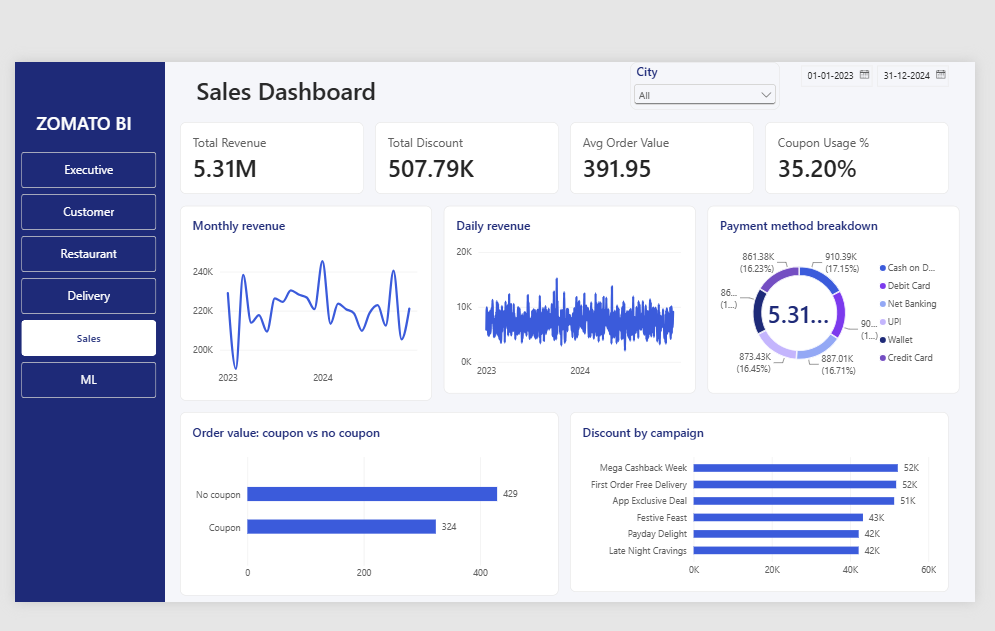

This screenshot's page, from the dashboard's own definition file:
{"tool":"powerbi","page":{"name":"Sales","canvas":[1280,720],"ordinal":4},"visuals":[{"type":"slicer","fields":{"Values":["DateTable.Date"]},"box":[1040,0,220,63.3],"z":0},{"type":"slicer","fields":{"Values":["cities.City"]},"box":[820,0,200,63.8],"z":1000},{"type":"clusteredBarChart","fields":{"Category":["cities.City"],"Y":["orders.Total Orders"]},"box":[45.7,871.4,575.7,208.6],"z":2000},{"type":"shape","box":[0,0,200,720],"z":3000},{"type":"textbox","box":[8.3,45,183.3,73.3],"z":4000},{"type":"textbox","box":[241.7,16.7,328.3,46.7],"z":5000},{"type":"cardVisual","fields":{"Data":["orders.Total Discount"]},"box":[480,80,245,96],"z":6000},{"type":"cardVisual","fields":{"Data":["orders.Total Revenue"]},"box":[220,80,245,96],"z":7000},{"type":"cardVisual","fields":{"Data":["orders.Coupon Usage %"]},"box":[1000,80,245,96],"z":8000},{"type":"pageNavigator","box":[8,120,180,330],"z":9000},{"type":"lineChart","title":"Monthly revenue","fields":{"Category":["DateTable.MonthStart"],"Y":["orders.Total Revenue"]},"box":[220,192,336,260],"z":10000},{"type":"donutChart","title":"Payment method breakdown","fields":{"Category":["orders.PaymentMethod"],"Y":["orders.Total Revenue"]},"box":[924,192,336,250],"z":11000},{"type":"cardVisual","fields":{"Data":["orders.Avg Order Value"]},"box":[740,80,245,96],"z":12000},{"type":"clusteredBarChart","title":"Order value: coupon vs no coupon","fields":{"Category":["orders.CouponUsed"],"Y":["orders.Avg Order Value"]},"box":[220,466,505,245],"z":13000},{"type":"clusteredBarChart","title":"Discount by campaign","fields":{"Category":["orders.Campaign"],"Y":["orders.Total Discount"]},"box":[740,466,505,240],"z":14000},{"type":"lineChart","title":"Daily revenue","fields":{"Category":["DateTable.Date"],"Y":["orders.Total Revenue"]},"box":[572,192,336,250],"z":15000}]}

Visuals, with their boxes on the page's 1280x720 design canvas (x1, y1, x2, y2). These are canvas units, not pixel positions in the 995x631 screenshot, which may show the page scaled, cropped or inside an application window:
slicer - DateTable.Date: l=1040, t=0, r=1260, b=63
slicer - cities.City: l=820, t=0, r=1020, b=64
clusteredBarChart - cities.City x orders.Total Orders: l=46, t=871, r=621, b=1080
shape: l=0, t=0, r=200, b=720
textbox: l=8, t=45, r=192, b=118
textbox: l=242, t=17, r=570, b=63
cardVisual - orders.Total Discount: l=480, t=80, r=725, b=176
cardVisual - orders.Total Revenue: l=220, t=80, r=465, b=176
cardVisual - orders.Coupon Usage %: l=1000, t=80, r=1245, b=176
pageNavigator: l=8, t=120, r=188, b=450
"Monthly revenue" lineChart: l=220, t=192, r=556, b=452
"Payment method breakdown" donutChart: l=924, t=192, r=1260, b=442
cardVisual - orders.Avg Order Value: l=740, t=80, r=985, b=176
"Order value: coupon vs no coupon" clusteredBarChart: l=220, t=466, r=725, b=711
"Discount by campaign" clusteredBarChart: l=740, t=466, r=1245, b=706
"Daily revenue" lineChart: l=572, t=192, r=908, b=442
